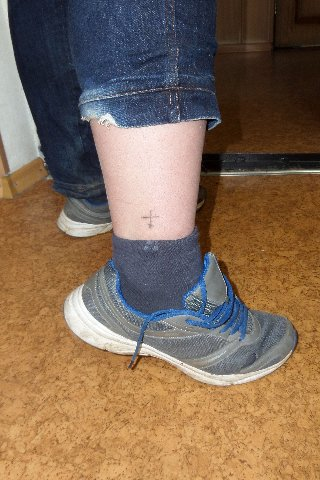tatu9_krest: (140, 207, 159, 228)
